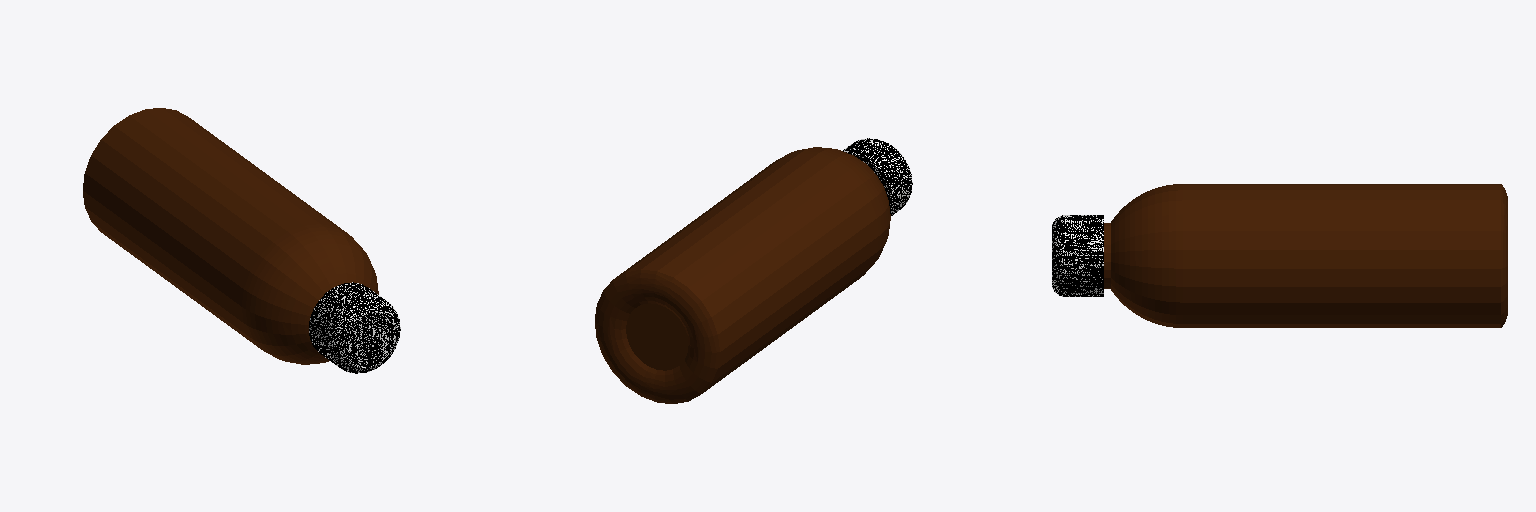
Rendered from model_align.obj.
3 renders of one model, left to right at view 1: azimuth 30°, elevation 25°; view 2: azimuth 150°, elevation 25°; view 3: azimuth 270°, elevation 25°, orthographic.
Size of the model in its own units: 0.0443 by 0.0443 by 0.1396.